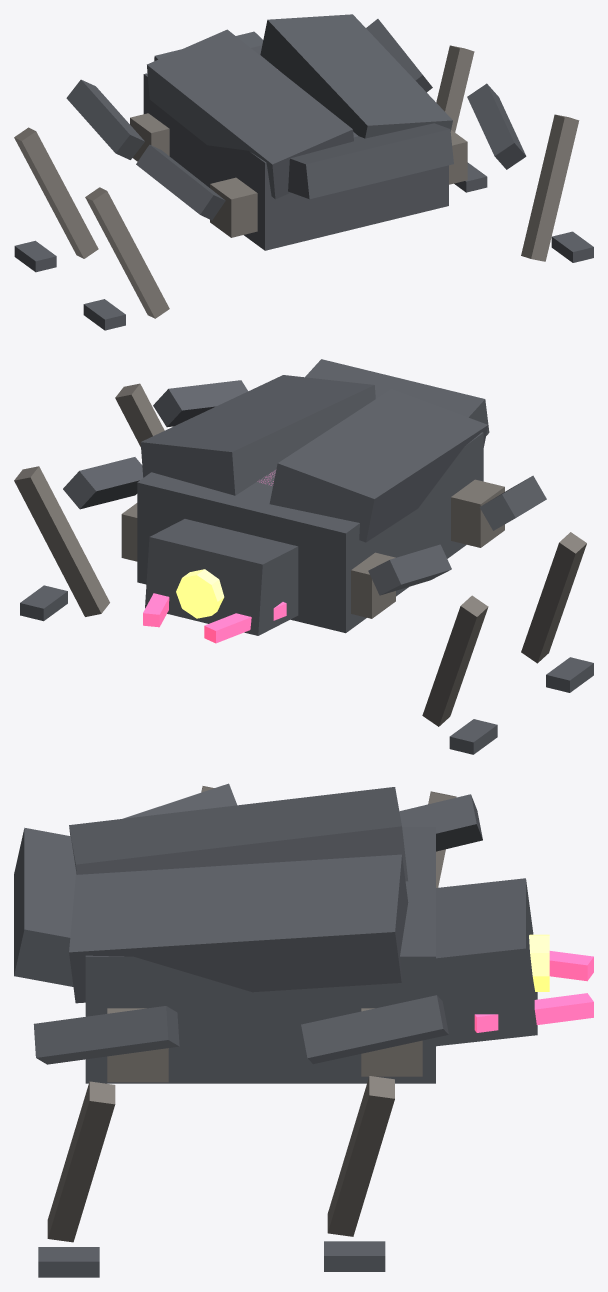
Rendered from scarab.glb.
3 views of the same model, one above another, from view 1: azimuth 30°, elevation 25°; view 2: azimuth 150°, elevation 25°; view 3: azimuth 270°, elevation 25° (orthographic). The views are drawn at different scales.
Visible parts, largest first — view 1: Carapace_Left, Carapace_Right, Chassis, Carapace_Back, Leg_BR_Shin, Leg_FL_Shin, Leg_BL_Shin, Leg_FL_Thigh, Leg_BL_Thigh, Leg_BR_Thigh, Leg_BL_Hip, Leg_FR_Shin (+7 smaller); view 2: Chassis, Carapace_Left, Carapace_Right, SensorHead, Leg_FR_Shin, Leg_BL_Shin, Leg_FL_Shin, Carapace_Back, Leg_FR_Thigh, Leg_BL_Hip, Leg_BR_Thigh, Leg_FL_Thigh (+10 smaller); view 3: Carapace_Right, Chassis, Carapace_Left, SensorHead, Carapace_Back, Leg_BR_Thigh, Leg_FR_Thigh, Leg_BR_Shin, Leg_FR_Shin, Leg_FL_Thigh, Leg_BR_Hip, Mandible_R (+6 smaller).
Part boxes in pixels (bbox=[...]): Carapace_Left: bbox=[147, 29, 353, 199]; Carapace_Right: bbox=[260, 14, 452, 138]; Chassis: bbox=[143, 45, 448, 250]; Carapace_Back: bbox=[288, 123, 453, 199]; Leg_BR_Shin: bbox=[521, 114, 579, 261]; Leg_FL_Shin: bbox=[14, 127, 98, 258]; Leg_BL_Shin: bbox=[85, 187, 169, 318]; Leg_FL_Thigh: bbox=[66, 79, 144, 159]; Leg_BL_Thigh: bbox=[136, 144, 225, 220]; Leg_BR_Thigh: bbox=[467, 83, 526, 169]; Leg_BL_Hip: bbox=[210, 177, 257, 237]; Leg_FR_Shin: bbox=[436, 45, 474, 132]; Chassis: bbox=[137, 432, 483, 633]; Carapace_Left: bbox=[269, 389, 488, 542]; Carapace_Right: bbox=[140, 375, 375, 495]; SensorHead: bbox=[145, 519, 298, 635]; Leg_FR_Shin: bbox=[14, 466, 109, 616]; Leg_BL_Shin: bbox=[521, 532, 586, 663]; Leg_FL_Shin: bbox=[422, 595, 488, 726]; Carapace_Back: bbox=[305, 359, 489, 435]; Leg_FR_Thigh: bbox=[63, 457, 143, 509]; Leg_BL_Hip: bbox=[451, 479, 504, 547]; Leg_BR_Thigh: bbox=[153, 380, 247, 427]; Leg_FL_Thigh: bbox=[368, 544, 451, 595]; Carapace_Right: bbox=[69, 854, 408, 1003]; Chassis: bbox=[85, 827, 435, 1083]; Carapace_Left: bbox=[69, 787, 407, 881]; SensorHead: bbox=[436, 878, 537, 1046]; Carapace_Back: bbox=[14, 827, 76, 986]; Leg_BR_Thigh: bbox=[33, 1006, 179, 1064]; Leg_FR_Thigh: bbox=[301, 995, 448, 1064]; Leg_BR_Shin: bbox=[47, 1081, 115, 1242]; Leg_FR_Shin: bbox=[327, 1076, 394, 1236]; Leg_FL_Thigh: bbox=[399, 794, 482, 851]; Leg_BR_Hip: bbox=[107, 1008, 168, 1082]; Mandible_R: bbox=[474, 993, 593, 1032].
Size of the model in its own units: 1.7 by 0.7098 by 1.32.
